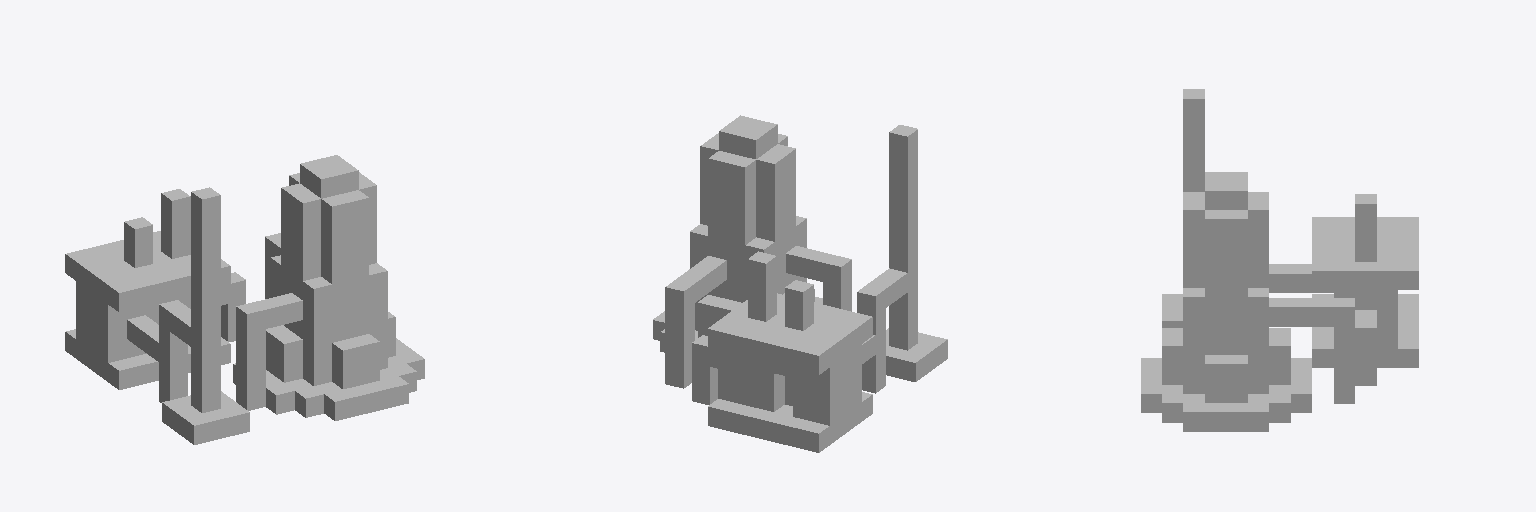
Rendered from civ_power_plant.obj.
3 views of the same model, side by side, from view 1: azimuth 30°, elevation 25°; view 2: azimuth 150°, elevation 25°; view 3: azimuth 270°, elevation 25° (orthographic).
Parts seen in each view (by area): view 1: model; view 2: model; view 3: model.
Part boxes in pixels (bbox=[...]): model: bbox=[65, 155, 424, 444]; model: bbox=[653, 115, 947, 452]; model: bbox=[1141, 89, 1418, 431].
Size of the model in its own units: 0.8125 by 0.75 by 0.8125.